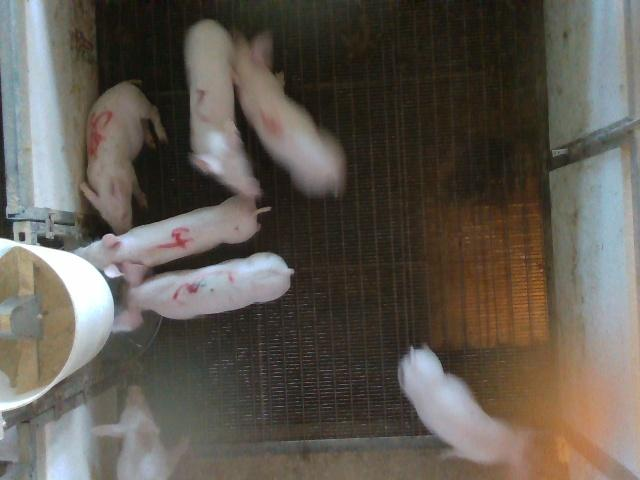pig-1: (234, 33, 346, 196)
pig-2: (184, 20, 261, 196)
pig-3: (112, 252, 294, 332)
pig-4: (74, 195, 270, 277)
pig-5: (80, 81, 168, 233)
